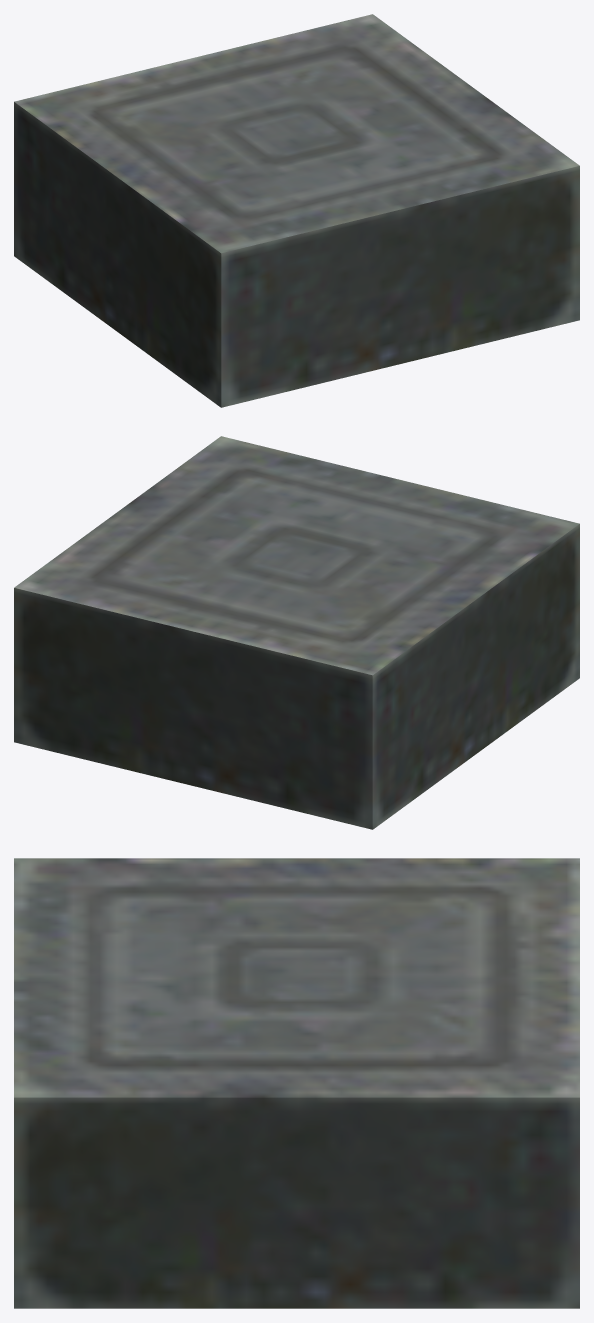
3 renders of one model, top to bottom at view 1: azimuth 30°, elevation 25°; view 2: azimuth 150°, elevation 25°; view 3: azimuth 270°, elevation 25°, orthographic. The views are drawn at different scales.
Visible parts, largest first — view 1: Scene_Object_Di_6; view 2: Scene_Object_Di_6; view 3: Scene_Object_Di_6.
Part boxes in pixels (<box>): Scene_Object_Di_6: <box>14,14,579,407</box>; Scene_Object_Di_6: <box>14,436,579,829</box>; Scene_Object_Di_6: <box>14,858,579,1308</box>.
Bounding box in the file's own units: 129 × 53.02 × 129.
